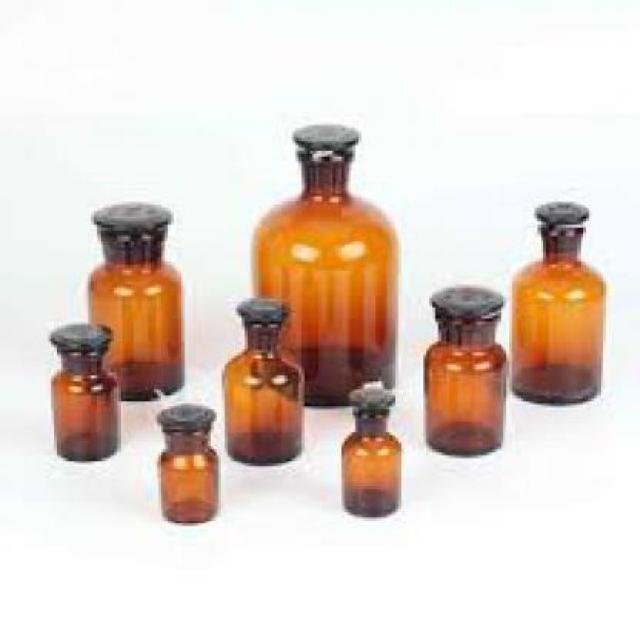kaca: (251, 120, 395, 406), (506, 203, 603, 408), (86, 202, 183, 402), (424, 284, 504, 456), (218, 300, 298, 465), (48, 322, 117, 460), (342, 382, 398, 516), (154, 405, 215, 523)
